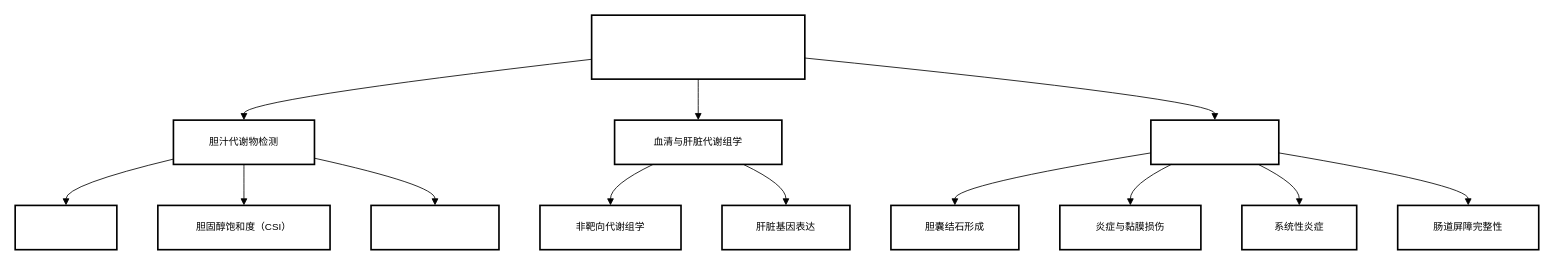
Some shapes in this 1553 by 264 pixel diagram are drawn without their labels. The box of each missing label's shape, as (x1, y1, x2, y2) in pixels:
宿主代谢物与病理表型动态分析: (590, 14, 805, 80)
样本采集: (14, 204, 117, 250)
病理表型评估: (1150, 119, 1279, 165)
胆汁酸谱分析: (370, 204, 499, 250)
